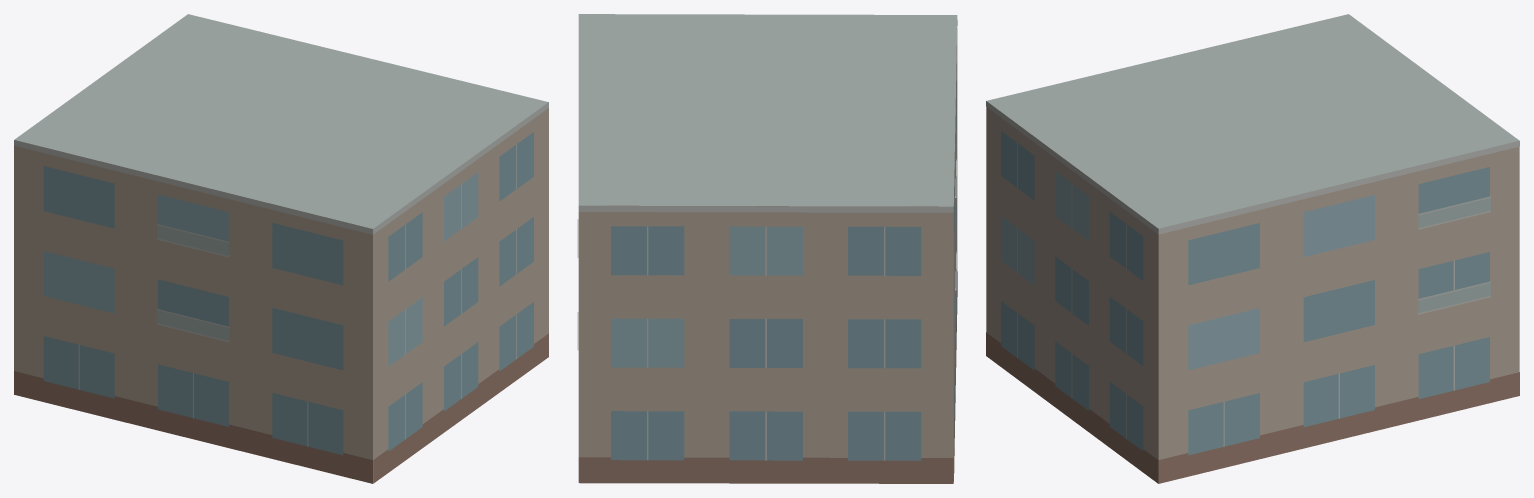
Rendered from survey-upis-33029176.glb.
3 renders of one model, left to right at view 1: azimuth 30°, elevation 25°; view 2: azimuth 150°, elevation 25°; view 3: azimuth 270°, elevation 25°, orthographic. The views are drawn at different scales.
Visible parts, largest first — view 1: survey-upis-33029176.tmp; view 2: survey-upis-33029176.tmp; view 3: survey-upis-33029176.tmp.
Boxes of the visible parts, x1,y1,x2,y2 form: survey-upis-33029176.tmp: (14, 14, 548, 483); survey-upis-33029176.tmp: (577, 14, 957, 483); survey-upis-33029176.tmp: (986, 14, 1519, 483).
Size of the model in its own units: 19.33 by 10.7 by 20.29.
